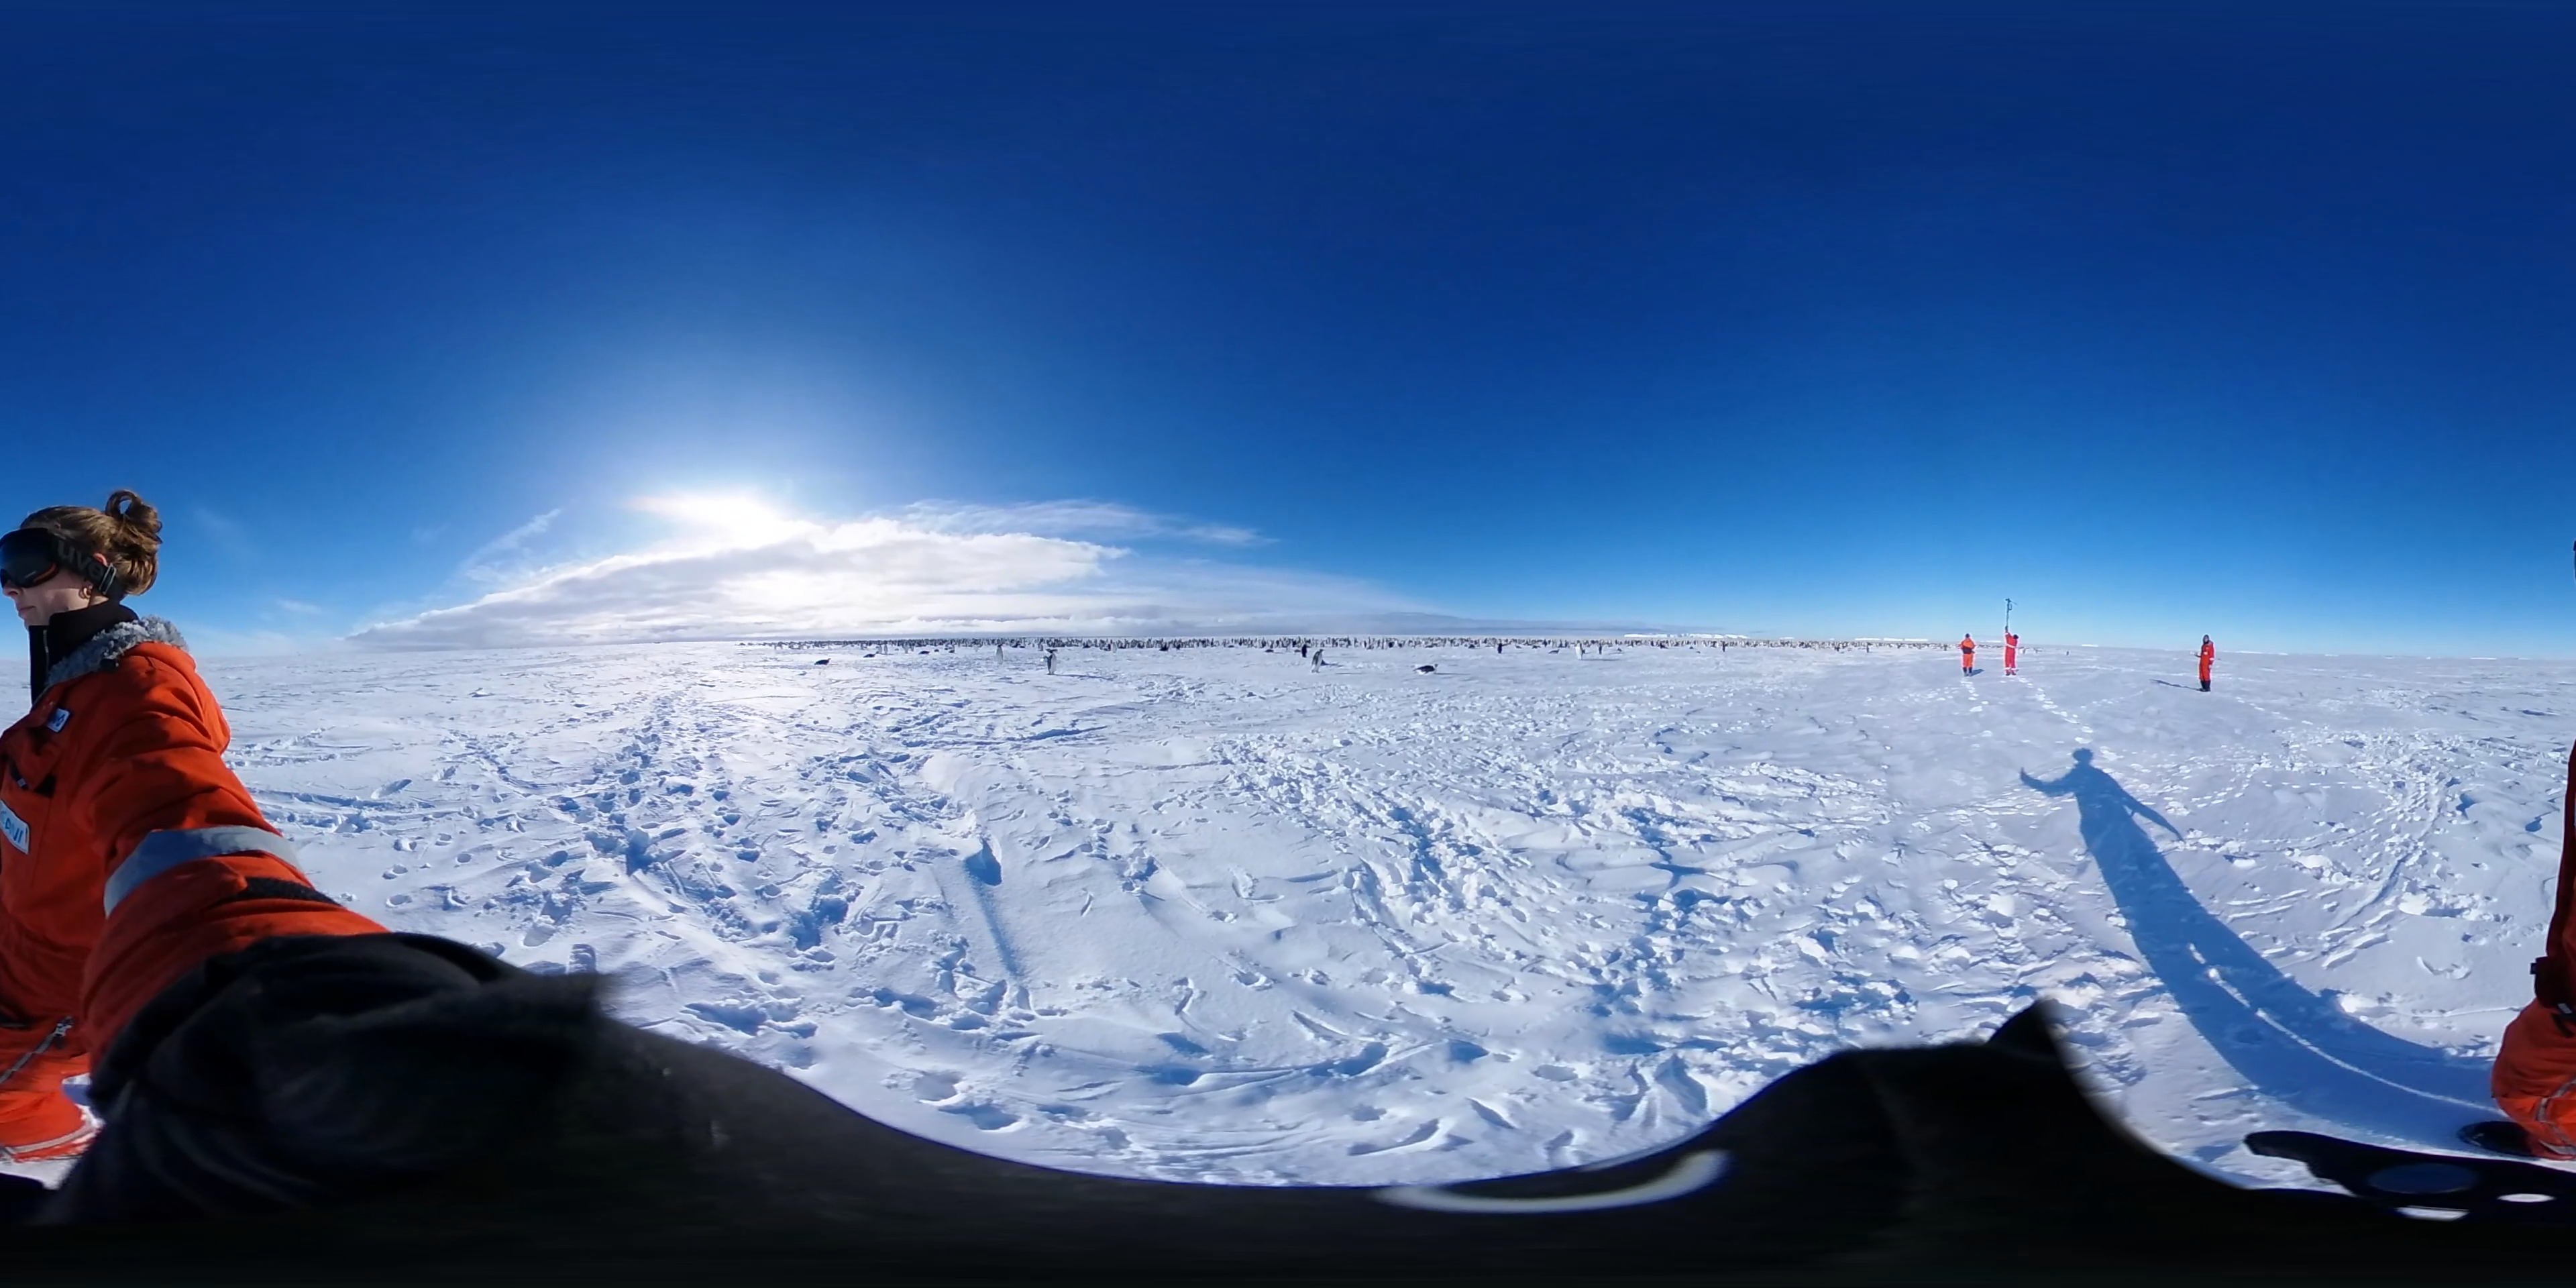adult_standing_penguin: (1308, 646, 1327, 677), (1043, 649, 1053, 680), (994, 641, 1004, 664)
adult_toboggan_penguin: (1410, 660, 1442, 678), (812, 655, 831, 667)
researcher: (0, 463, 422, 1286), (2196, 632, 2218, 695), (1957, 631, 1981, 680), (2001, 623, 2019, 680)
